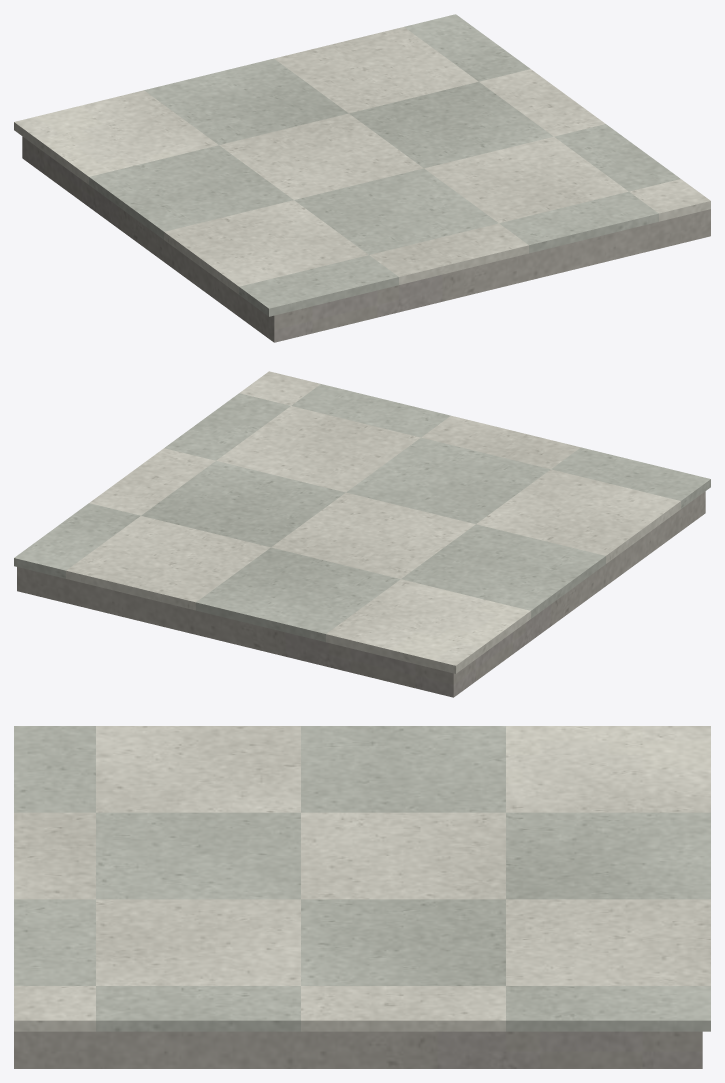
The model's file is floor_vct_g_e0_30_0_30.glb.
3 views of the same model, one above another, from view 1: azimuth 30°, elevation 25°; view 2: azimuth 150°, elevation 25°; view 3: azimuth 270°, elevation 25° (orthographic). The views are drawn at different scales.
Visible parts, largest first — view 1: floor_vct_g_e0_30_0_30_vct, floor_vct_g_e0_30_0_30_vct2, floor_vct_g_e0_30_0_30_concrete; view 2: floor_vct_g_e0_30_0_30_vct, floor_vct_g_e0_30_0_30_vct2, floor_vct_g_e0_30_0_30_concrete; view 3: floor_vct_g_e0_30_0_30_vct, floor_vct_g_e0_30_0_30_vct2, floor_vct_g_e0_30_0_30_concrete.
Part boxes in pixels (x1,y1,x2,y2): floor_vct_g_e0_30_0_30_vct: (14, 27, 710, 294); floor_vct_g_e0_30_0_30_vct2: (89, 14, 680, 316); floor_vct_g_e0_30_0_30_concrete: (22, 136, 710, 342); floor_vct_g_e0_30_0_30_vct: (66, 371, 680, 673); floor_vct_g_e0_30_0_30_vct2: (14, 384, 710, 642); floor_vct_g_e0_30_0_30_concrete: (17, 491, 705, 697); floor_vct_g_e0_30_0_30_vct: (14, 726, 710, 1031); floor_vct_g_e0_30_0_30_vct2: (14, 726, 710, 1031); floor_vct_g_e0_30_0_30_concrete: (14, 1031, 702, 1068).
Bounding box in the file's own units: 1.7 × 0.13 × 1.7.
3 materials, 3 textured.
